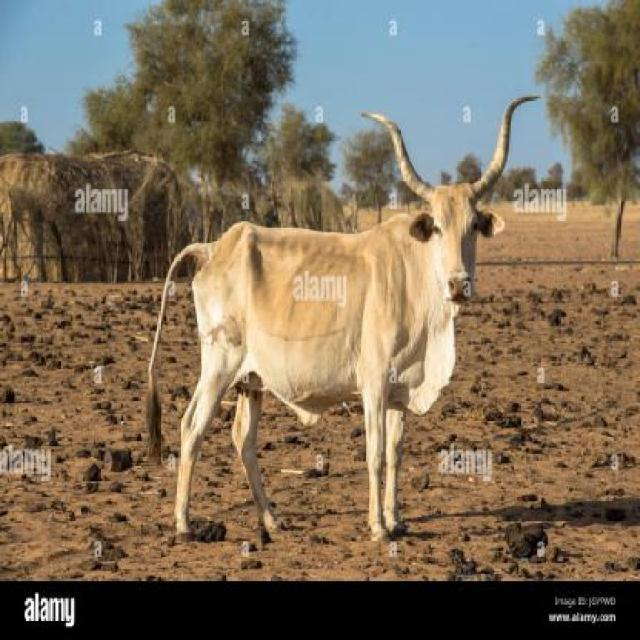Cow: (143, 97, 543, 541)
